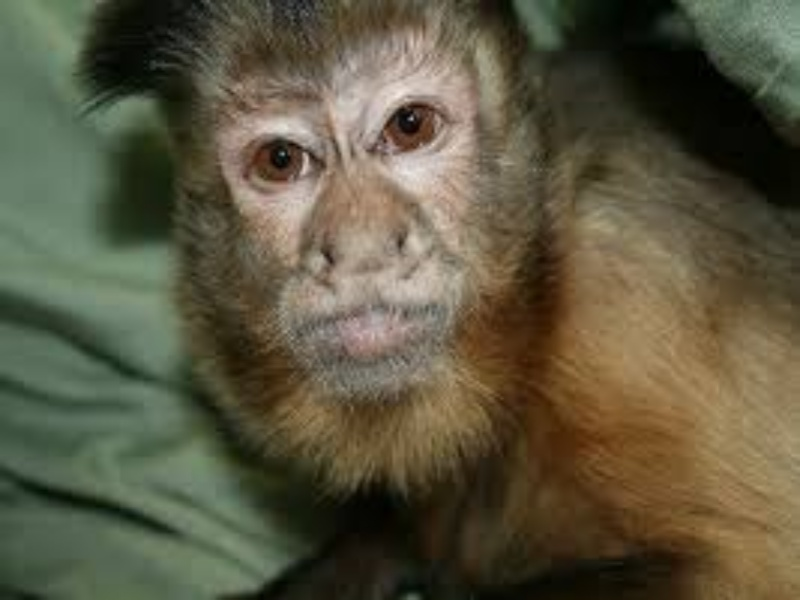monkey: (101, 5, 773, 506)
